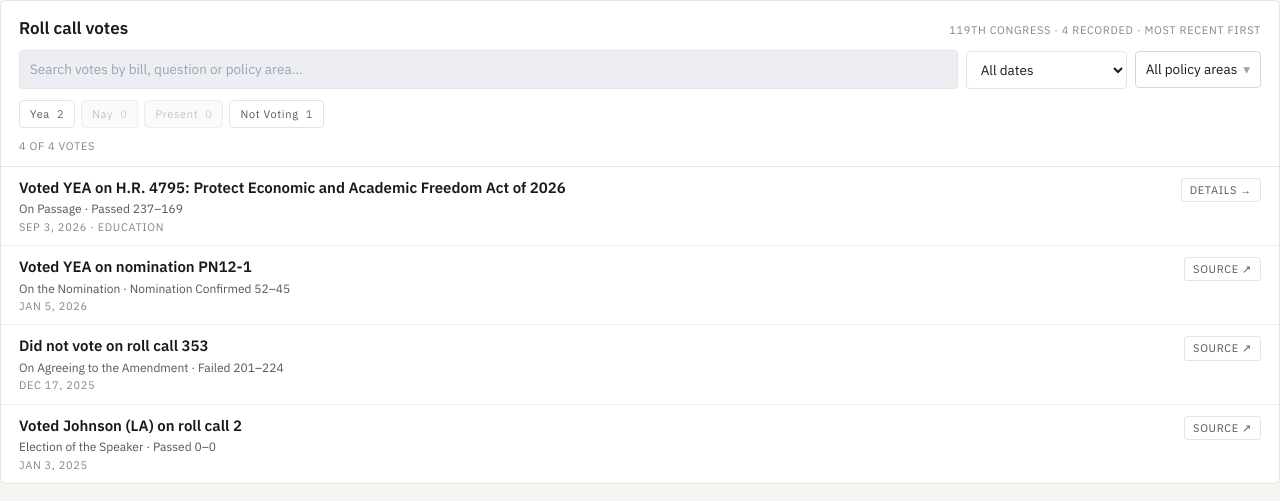
Test: roll call votes › date range: presets come from the mart, and Clear resets every filter
Select "This session (2026)" in the dropdown named "Date range" at point(1046, 70), box left=966, top=50, right=1127, bottom=88
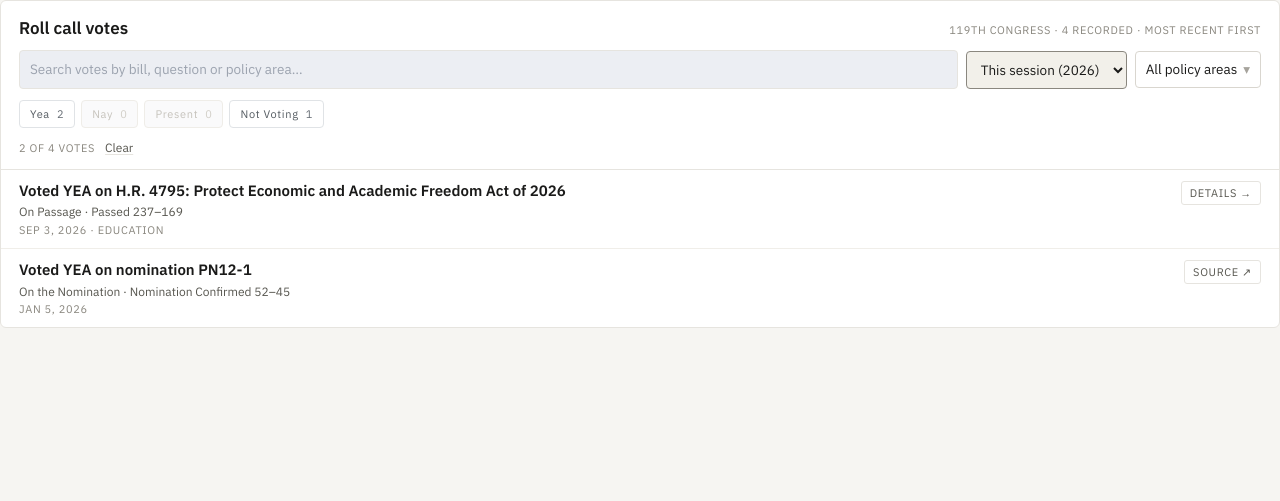
Now the text "2 of 4 votes" is shown, box left=19, top=141, right=95, bottom=156
Click the button "Clear" at point(119, 148), box left=105, top=139, right=133, bottom=157
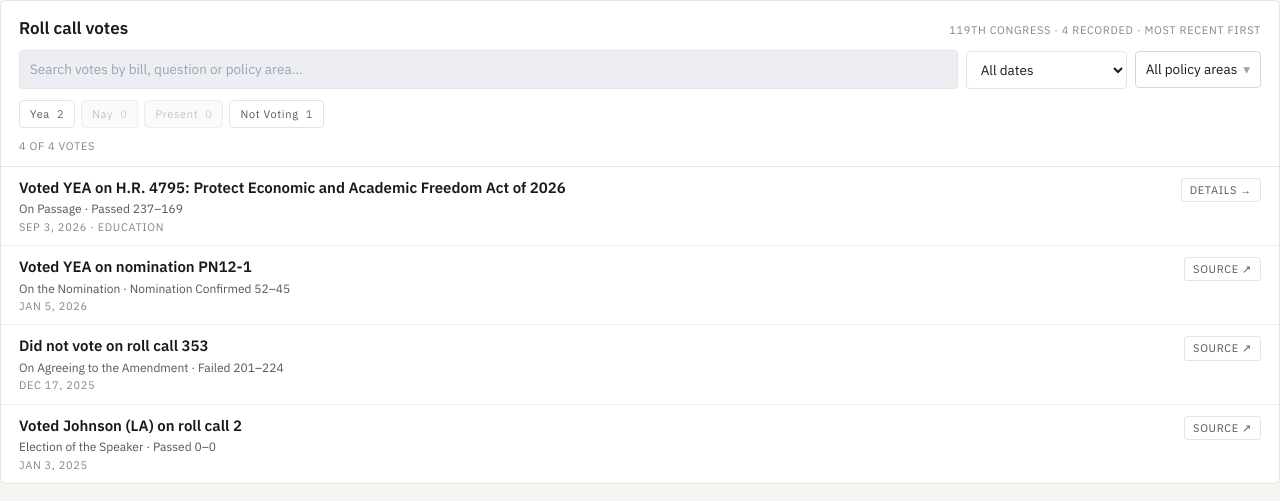
Now the text "4 of 4 votes" is shown, box left=19, top=139, right=95, bottom=154
